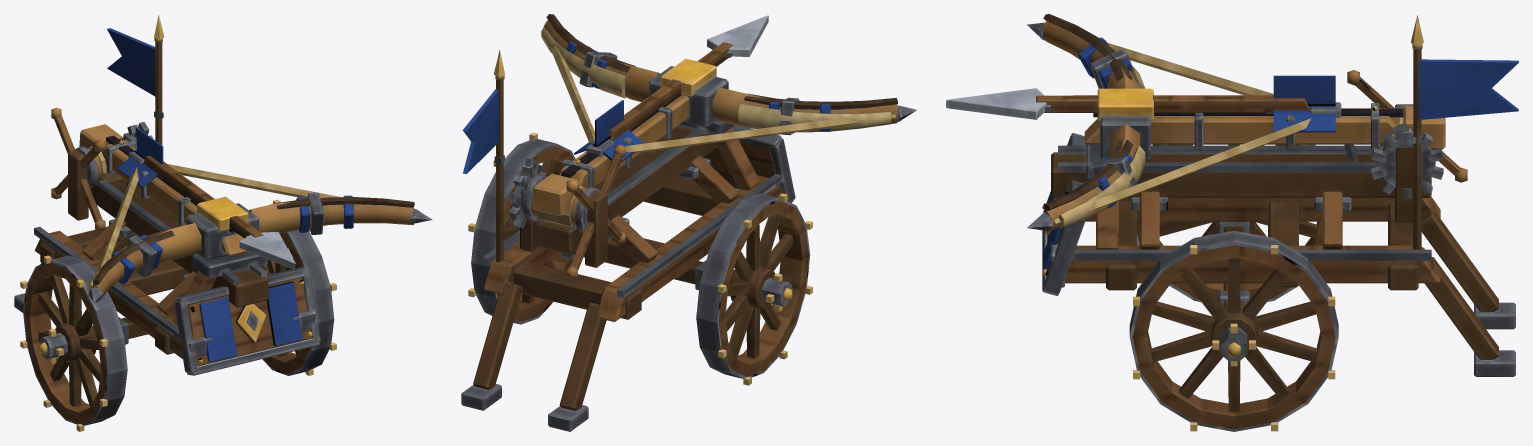
The model's file is ballista.glb.
3 views of the same model, side by side, from view 1: azimuth 30°, elevation 25°; view 2: azimuth 150°, elevation 25°; view 3: azimuth 270°, elevation 25° (orthographic). The views are drawn at different scales.
Visible parts, largest first — view 1: Body, SiegeArm, WheelL, WheelR; view 2: Body, SiegeArm, WheelL, WheelR; view 3: Body, SiegeArm, WheelR, WheelL.
Boxes of the visible parts, x1,y1,x2,y2 form: Body: (14, 14, 320, 375); SiegeArm: (79, 124, 432, 302); WheelL: (20, 255, 127, 431); WheelR: (262, 199, 336, 375); Body: (461, 50, 795, 431); SiegeArm: (532, 14, 917, 216); WheelL: (696, 193, 812, 385); WheelR: (468, 132, 575, 324); Body: (1042, 15, 1518, 376); SiegeArm: (946, 14, 1445, 232); WheelR: (1129, 230, 1338, 431); WheelL: (1137, 144, 1322, 301).
Size of the model in its own units: 2.73 by 2.39 by 3.25.
2 materials, 2 textured.
